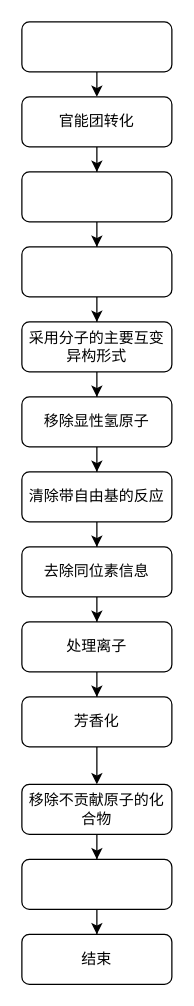
This 194x1006 diagram has some shape labels left out. Each missing label, with the centre of its shape:
"去芳香化" belongs at pixel 96 196.
"开始" belongs at pixel 96 46.
"检查原子的化合价" belongs at pixel 96 271.
"移除重复的反应" belongs at pixel 96 883.
